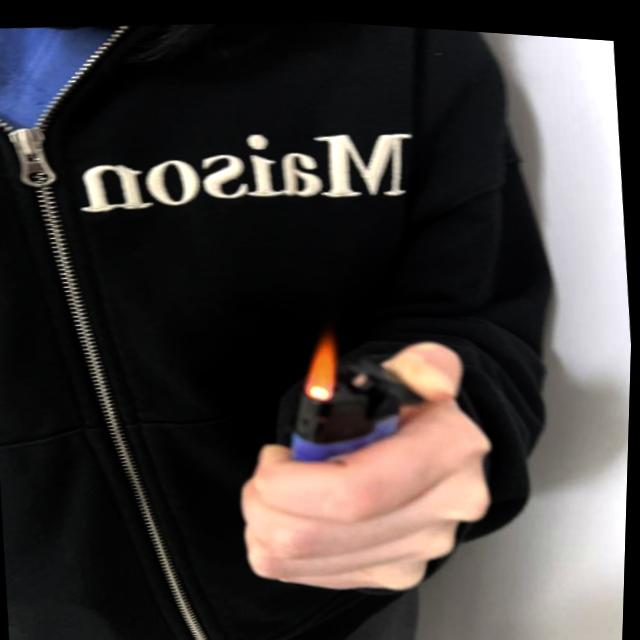helmet: (297, 317, 345, 399)
